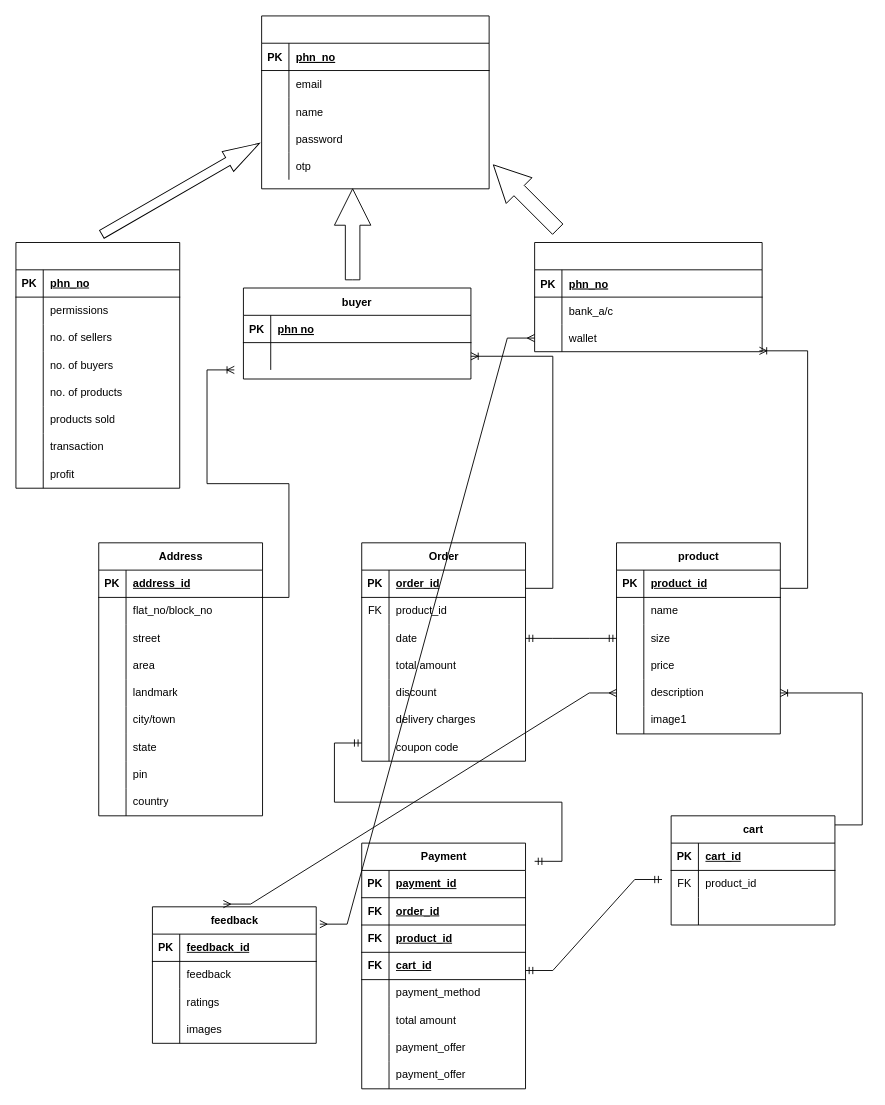
The diagram is 885 pixels wide and 1105 high, and some of its shapes have lost their labels. Here are the shapes that lost their labels. From the top down, the box of each, then its label:
(261, 15, 489, 189): USER
(534, 242, 762, 352): seller
(15, 242, 180, 488): Admin
